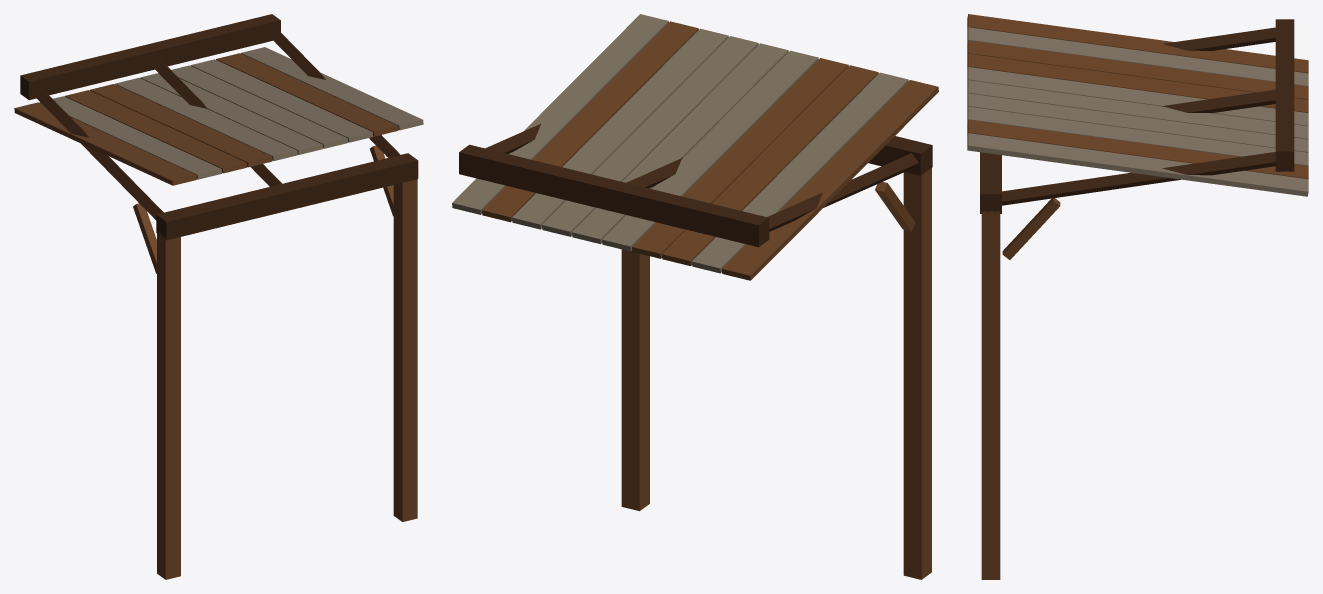
The model's file is SM_Porch_Awning.obj.
3 renders of one model, left to right at view 1: azimuth 30°, elevation 25°; view 2: azimuth 150°, elevation 25°; view 3: azimuth 270°, elevation 25°, orthographic. The views are drawn at different scales.
Visible parts, largest first — view 1: SM_Porch_Awning; view 2: SM_Porch_Awning; view 3: SM_Porch_Awning.
Part boxes in pixels (box(x1,y1,x2,y2)): SM_Porch_Awning: box(14, 14, 423, 579); SM_Porch_Awning: box(452, 14, 938, 579); SM_Porch_Awning: box(967, 14, 1308, 579).
Bounding box in the file's own units: 2 × 3.06 × 2.18.
